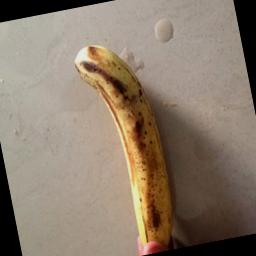Banana Ripe: (52, 17, 215, 256)
